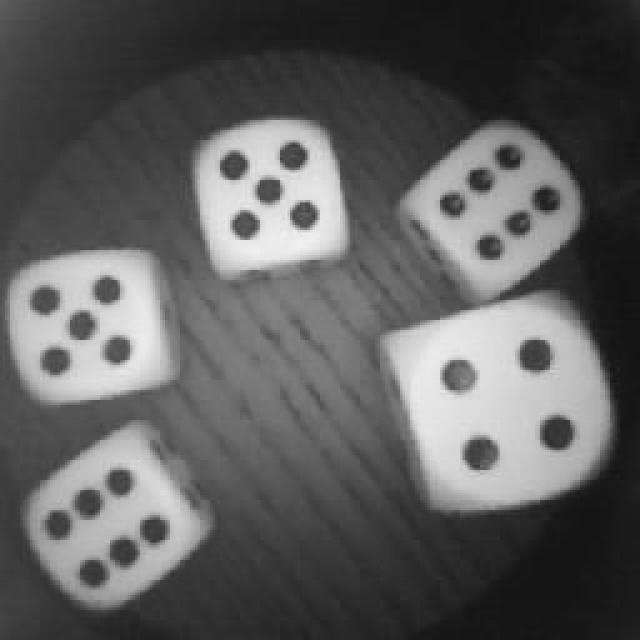dice_4: (378, 288, 628, 522)
dice_5: (185, 108, 357, 280), (10, 243, 172, 405)
dice_6: (17, 430, 215, 620), (400, 115, 580, 300)
